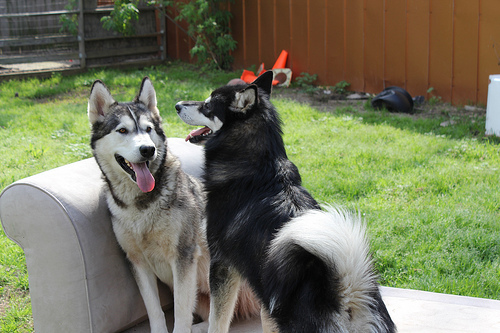dog: (170, 68, 400, 331), (90, 78, 248, 332)
